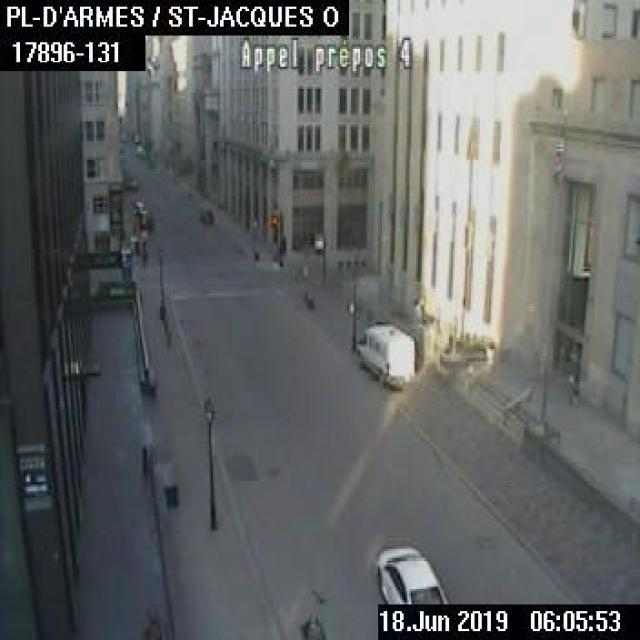vehicle: (374, 543, 442, 602), (356, 324, 414, 386)
